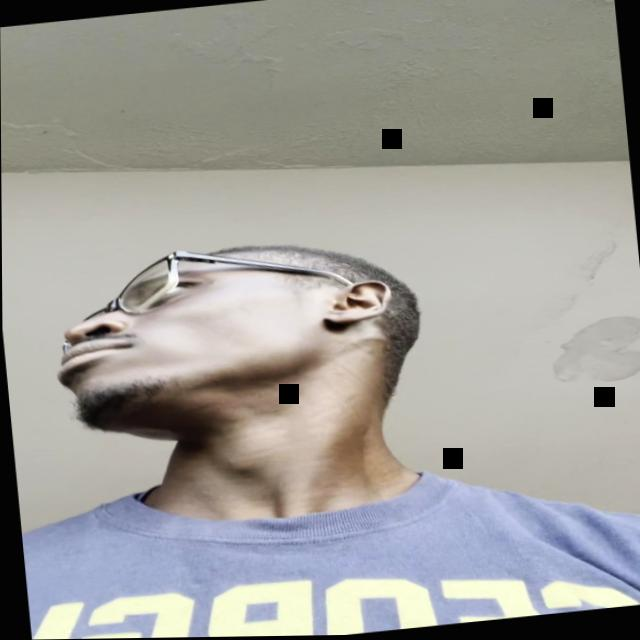NO-Mask: (30, 221, 426, 465)
